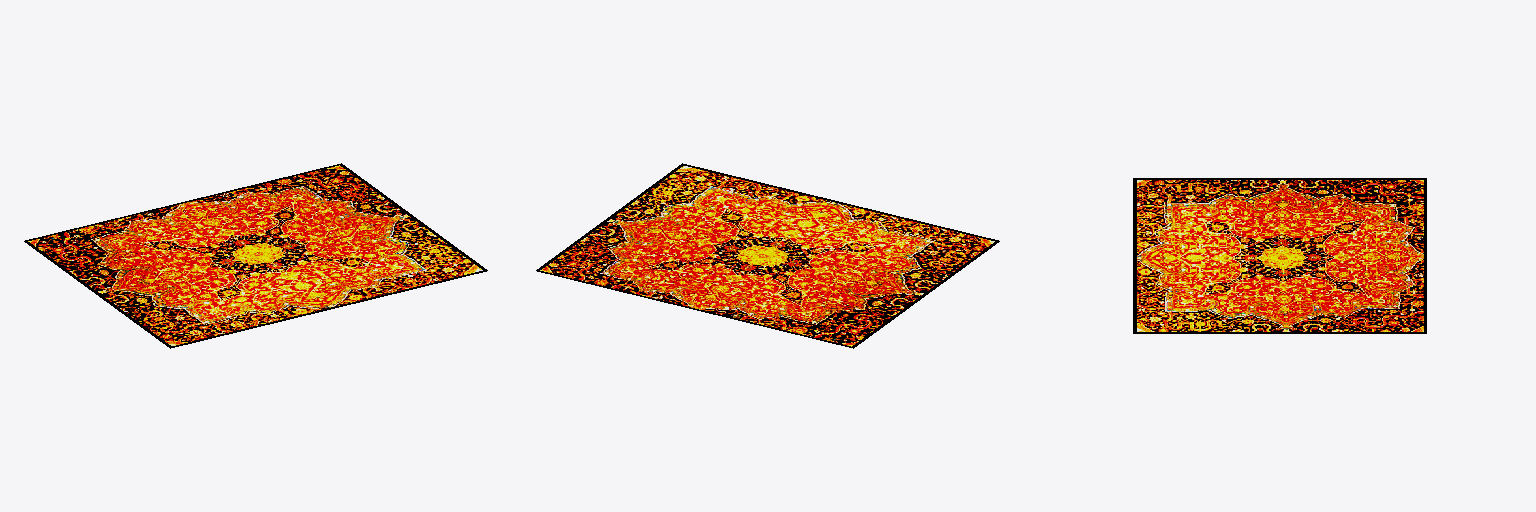
3 renders of one model, left to right at view 1: azimuth 30°, elevation 25°; view 2: azimuth 150°, elevation 25°; view 3: azimuth 270°, elevation 25°, orthographic.
Visible parts, largest first — view 1: pPlane1; view 2: pPlane1; view 3: pPlane1.
Boxes of the visible parts, x1=… form: pPlane1: x1=24, y1=163, x2=487, y2=348; pPlane1: x1=536, y1=163, x2=999, y2=348; pPlane1: x1=1133, y1=178, x2=1426, y2=333.
Size of the model in its own units: 25 by 0 by 20.
1 materials, 1 textured.